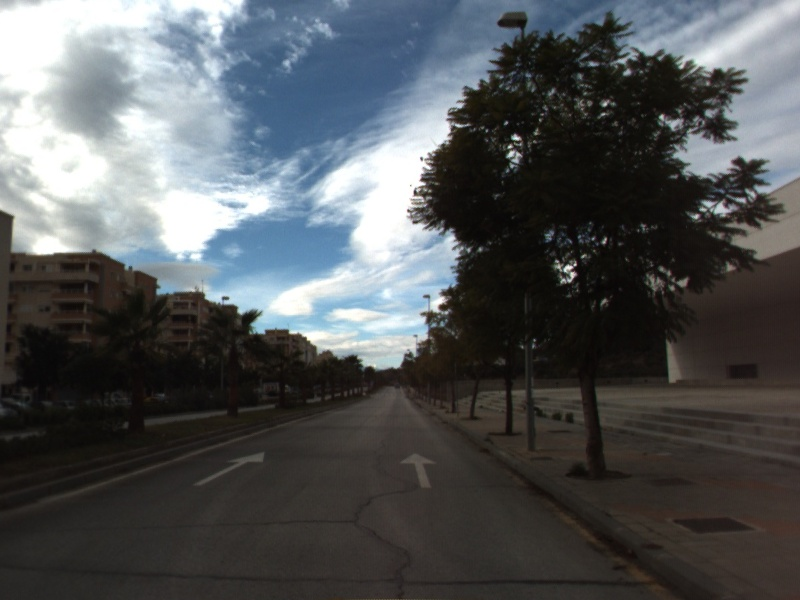STRAIGHT: (191, 450, 266, 487), (398, 451, 439, 490)
